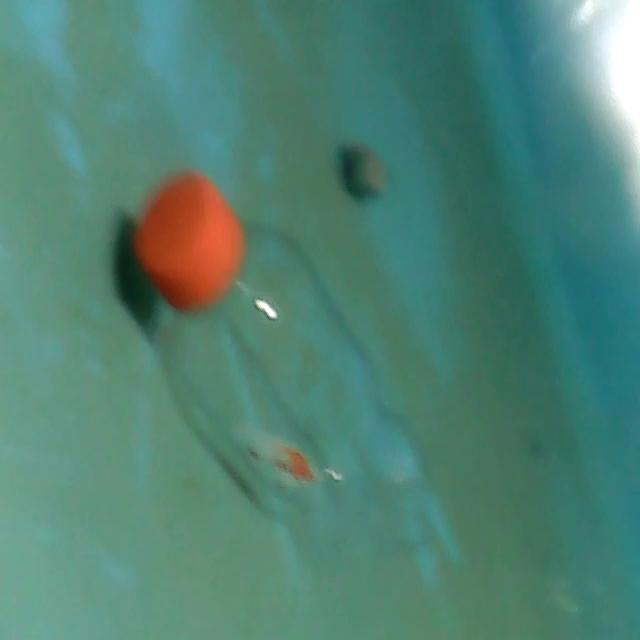plastic bottle: (113, 166, 467, 604)
